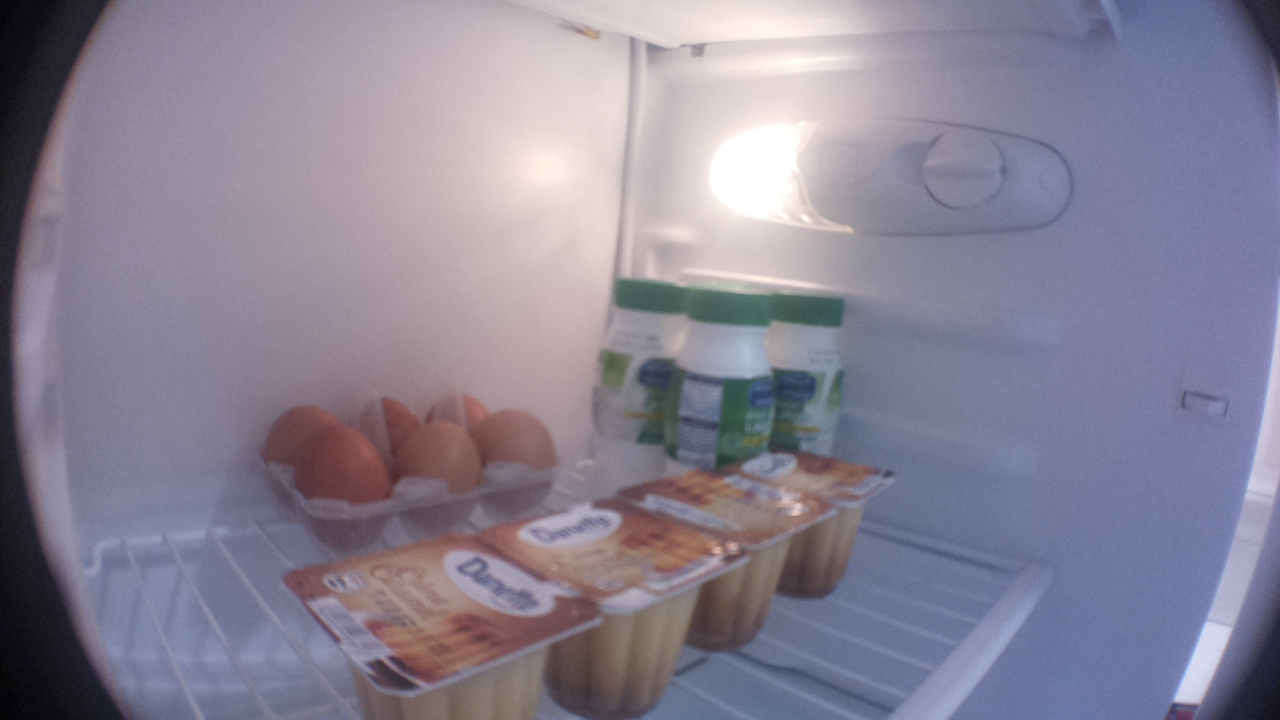caramel: (476, 495, 752, 720), (277, 528, 598, 720), (609, 464, 831, 657), (725, 448, 897, 602)
egg: (286, 426, 395, 552), (386, 411, 485, 542), (478, 398, 565, 489), (250, 398, 346, 465), (362, 382, 430, 455), (430, 388, 491, 428)
laban: (659, 280, 782, 480), (587, 274, 687, 495), (776, 283, 870, 454)
